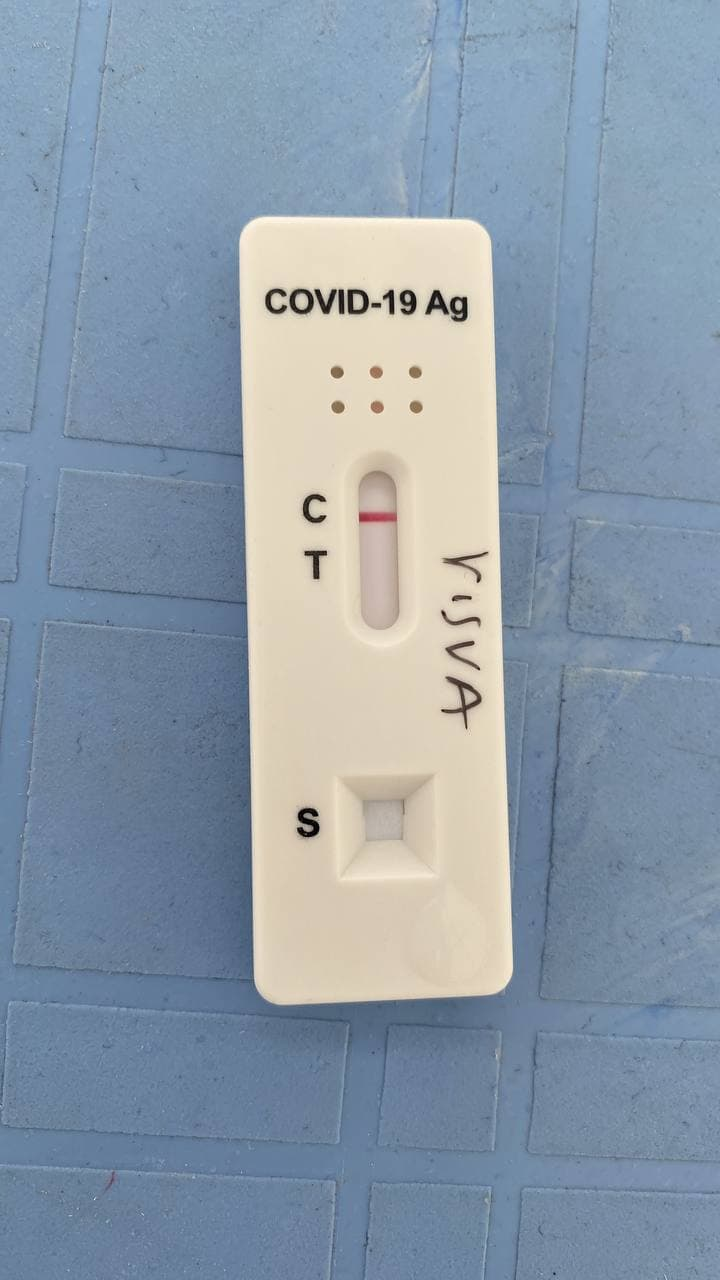rapid_test: (233, 216, 514, 1025)
